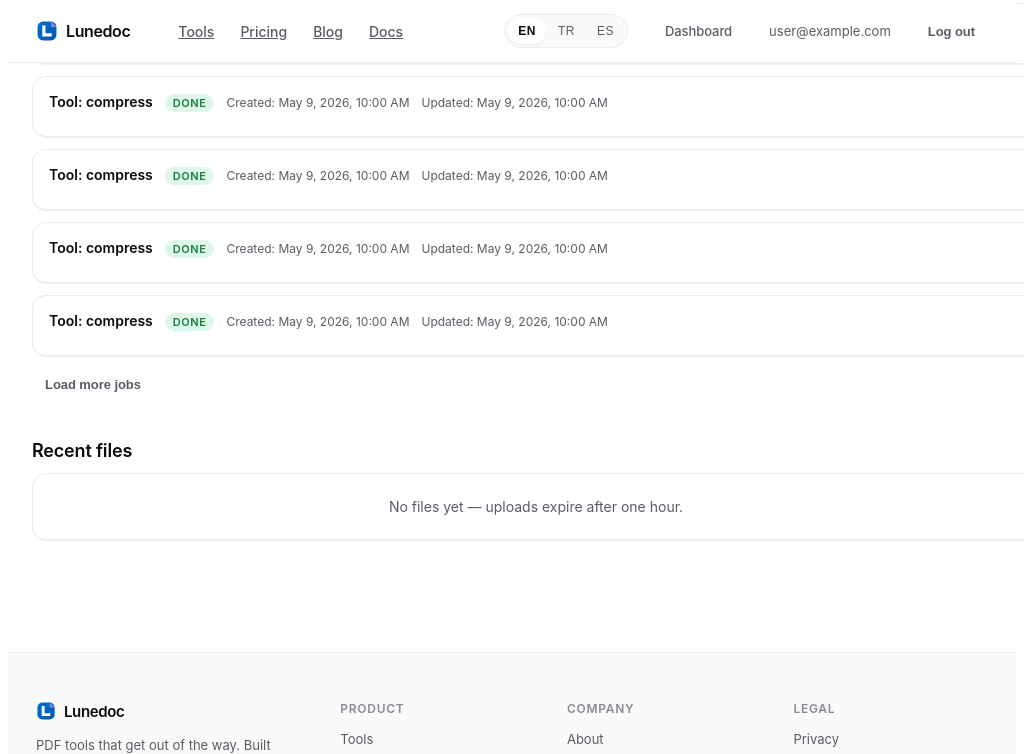
DashboardPage › appends rows when "Load more jobs" is clicked
(page scrolled)
Click the button "Load more jobs". click: (93, 384)
box: [32,368,154,400]
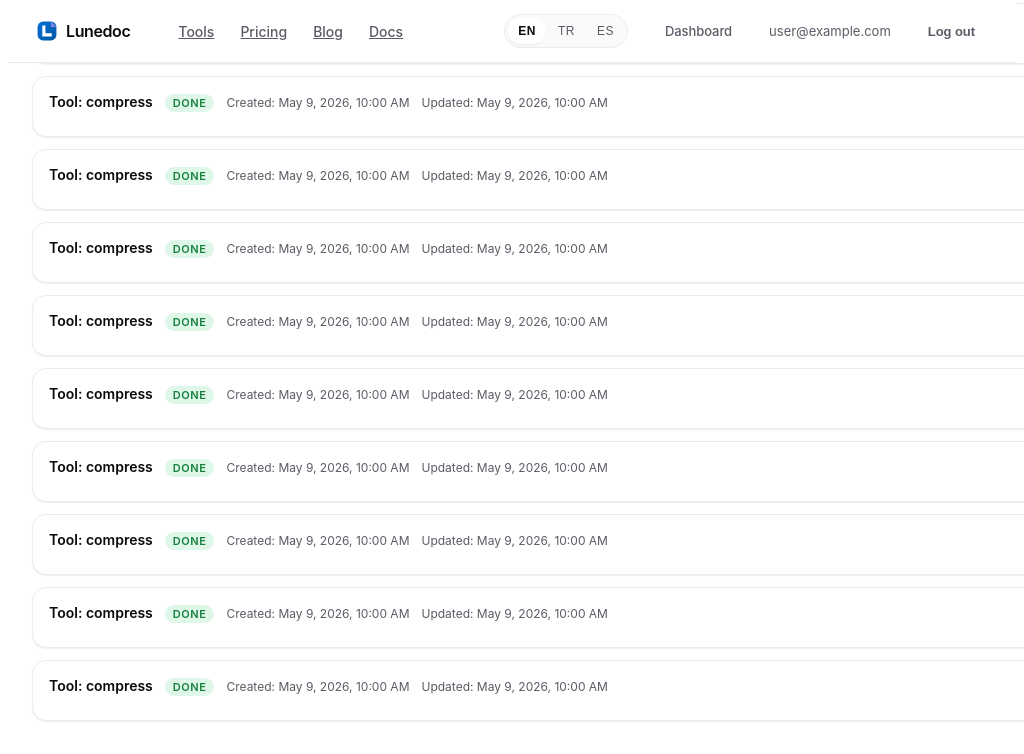
Now the button "Load more jobs" is gone
